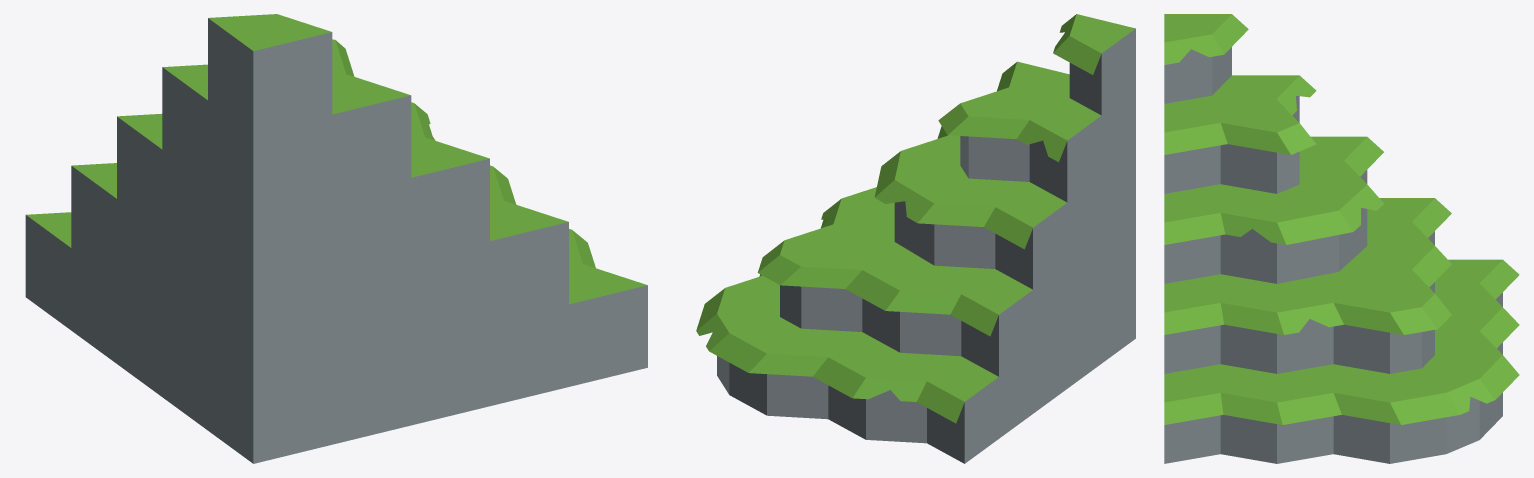
File: cliff_stepsCorner_stone.glb
3 views of the same model, side by side, from view 1: azimuth 30°, elevation 25°; view 2: azimuth 150°, elevation 25°; view 3: azimuth 270°, elevation 25° (orthographic). The views are drawn at different scales.
Visible parts, largest first — view 1: cliff_stepsCorner_stone; view 2: cliff_stepsCorner_stone; view 3: cliff_stepsCorner_stone.
Boxes of the visible parts, left/top/right/bottom form: cliff_stepsCorner_stone: left=25, top=14, right=647, bottom=463; cliff_stepsCorner_stone: left=696, top=14, right=1135, bottom=463; cliff_stepsCorner_stone: left=1164, top=14, right=1519, bottom=463.
Bounding box in the file's own units: 1.05 × 1 × 1.05.
